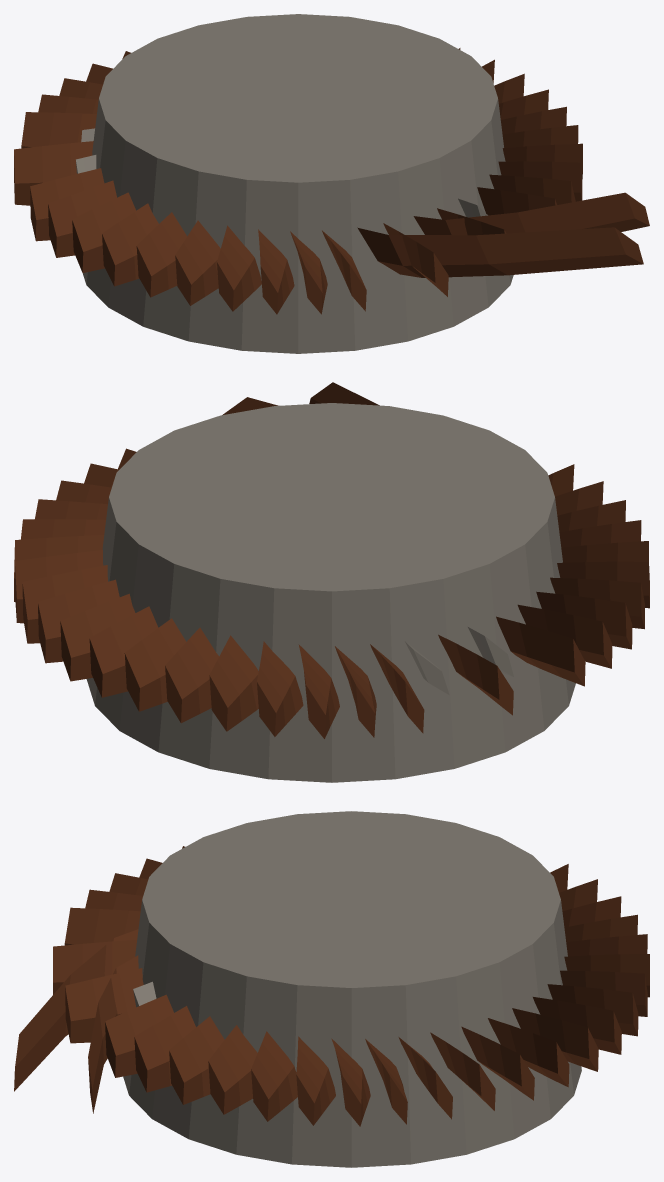
Rendered from turbinedisc_scrap.glb.
3 views of the same model, one above another, from view 1: azimuth 30°, elevation 25°; view 2: azimuth 150°, elevation 25°; view 3: azimuth 270°, elevation 25° (orthographic). The views are drawn at different scales.
Parts seen in each view (by area): view 1: turbinedisc_scrap; view 2: turbinedisc_scrap; view 3: turbinedisc_scrap.
Part boxes in pixels (x1,y1,x2,y2): turbinedisc_scrap: (14,14,649,353); turbinedisc_scrap: (14,382,649,782); turbinedisc_scrap: (14,811,649,1167).
Bounding box in the file's own units: 0.228 × 0.096 × 0.2429.
